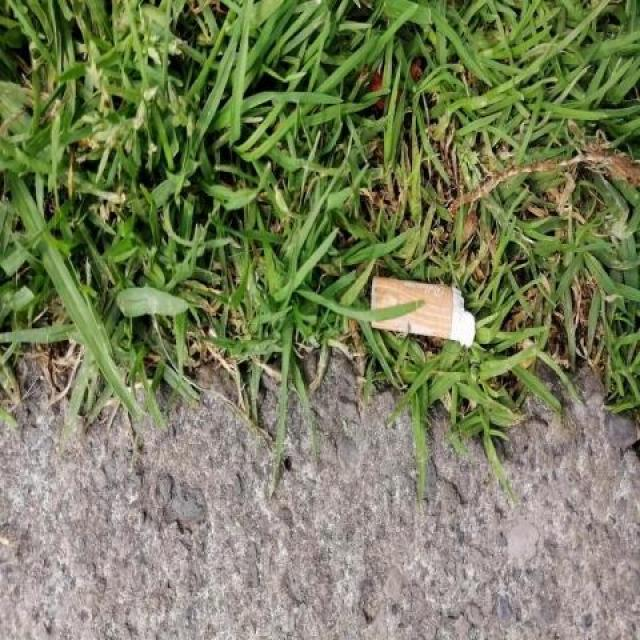non-organic waste: (367, 271, 481, 353)
